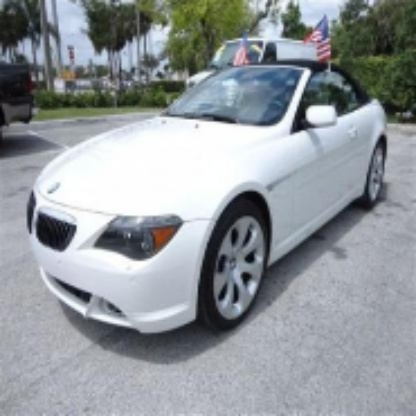Vehicle: (27, 61, 388, 338)
